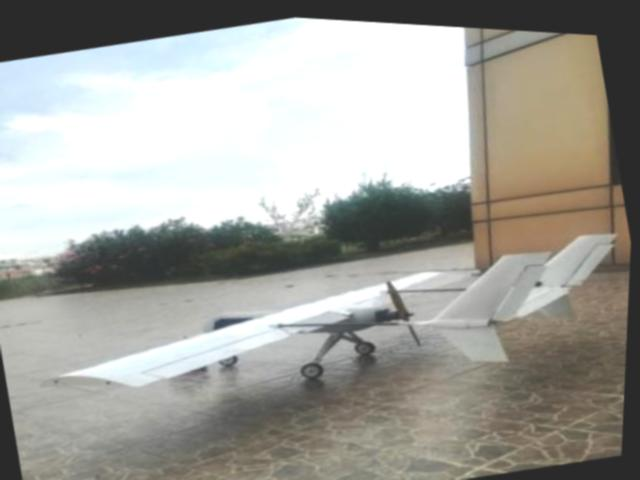uav: (32, 189, 633, 456)
